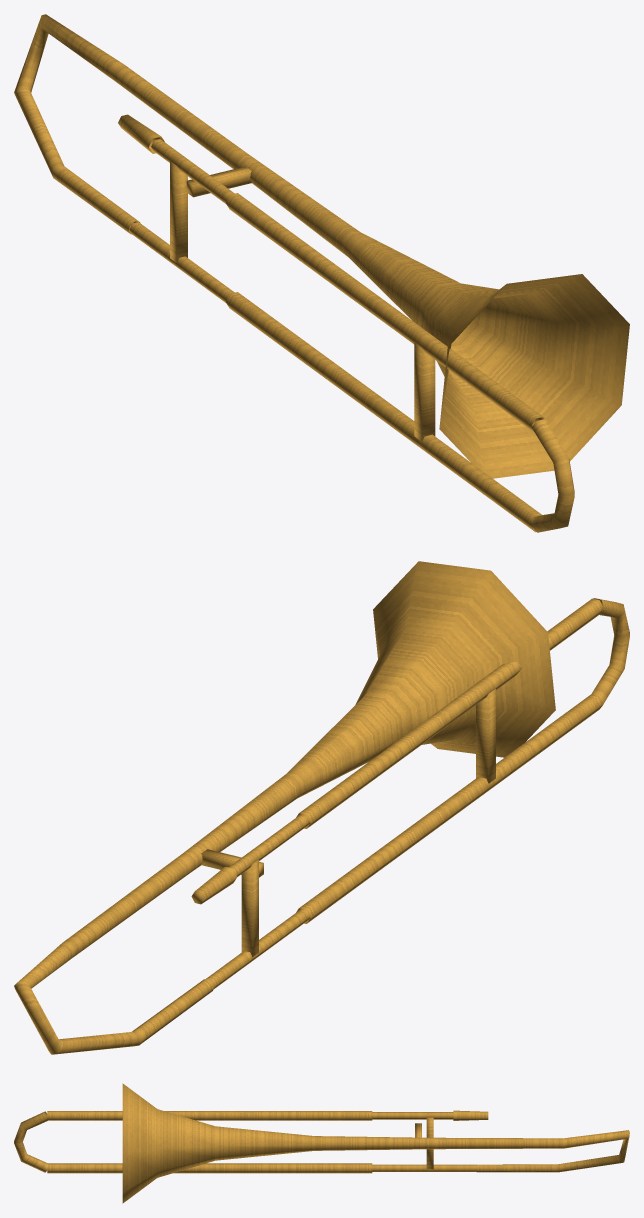
The model's file is trombone_1.glb.
The picture shows the model from 3 angles, top to bottom: view 1: azimuth 30°, elevation 25°; view 2: azimuth 150°, elevation 25°; view 3: azimuth 270°, elevation 25°; orthographic projection. The views are drawn at different scales.
Parts seen in each view (by area): view 1: trombone_1, trombone_1_slide; view 2: trombone_1, trombone_1_slide; view 3: trombone_1, trombone_1_slide.
Part boxes in pixels (bbox=[...]): trombone_1: bbox=[14, 14, 629, 478]; trombone_1_slide: bbox=[226, 193, 574, 532]; trombone_1: bbox=[14, 561, 555, 1054]; trombone_1_slide: bbox=[296, 598, 629, 923]; trombone_1: bbox=[122, 1083, 629, 1203]; trombone_1_slide: bbox=[14, 1111, 372, 1173].
Bounding box in the file's own units: 0.2015 × 0.2015 × 1.06.
Materials: 1 (1 with a texture image).
